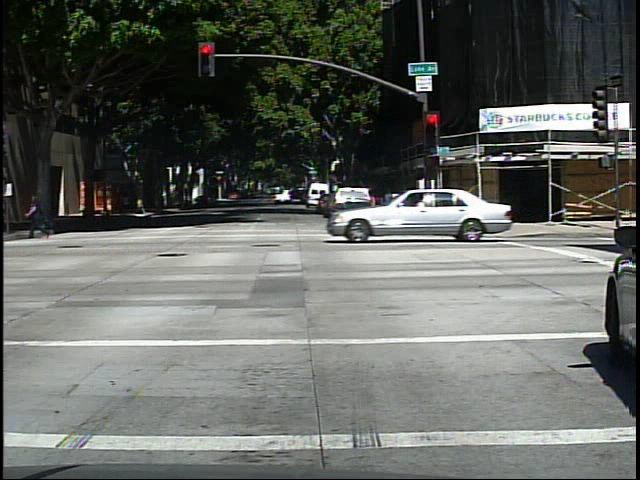person: (26, 189, 55, 242)
